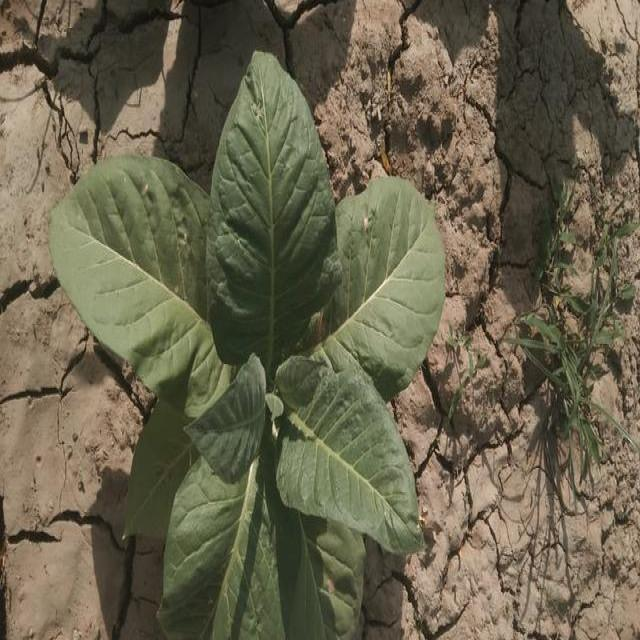crop: (48, 50, 446, 640)
